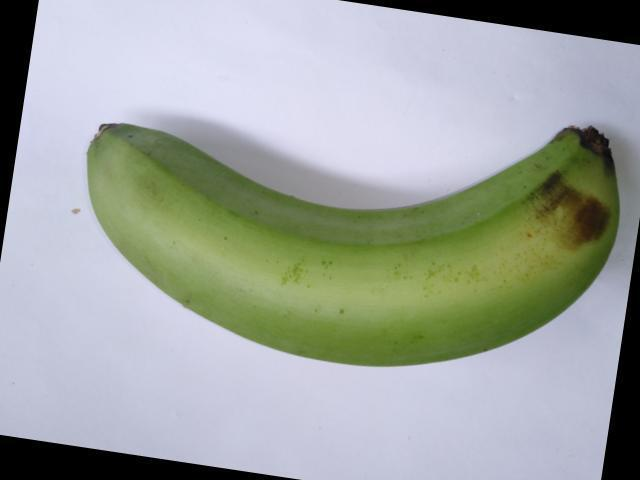freshunripe: (74, 80, 639, 382)
